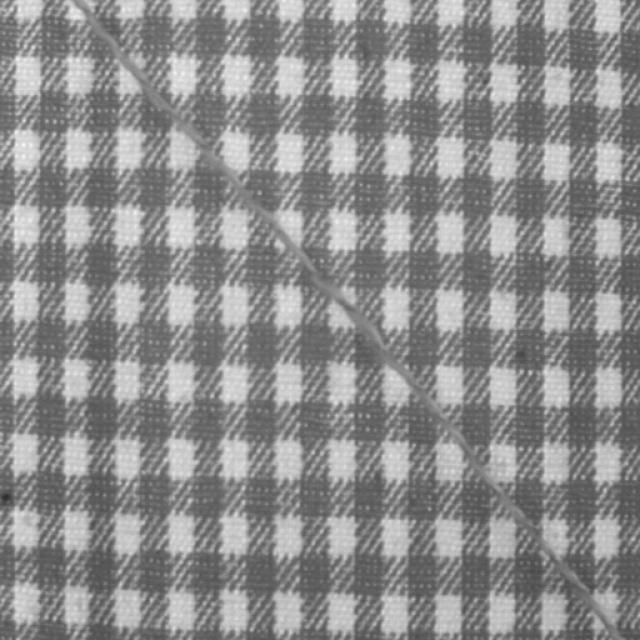Foreign-Body-Defect: (68, 0, 628, 639)
